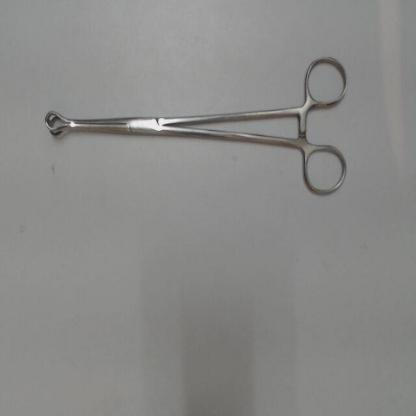8 Babcock Tissue Forceps: (39, 50, 349, 204)
